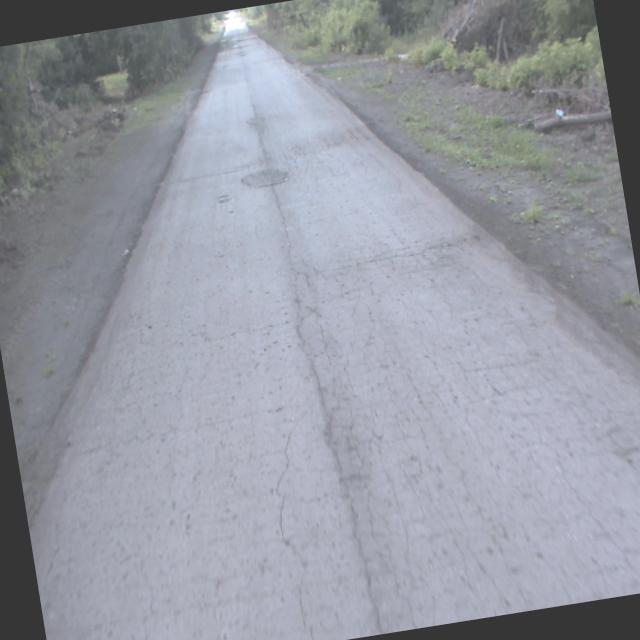road: (21, 12, 640, 640)
